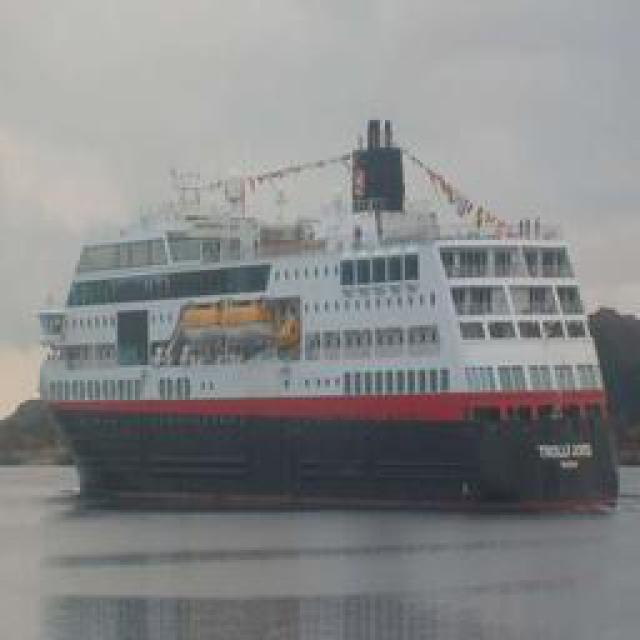Ship: (31, 118, 616, 506)
